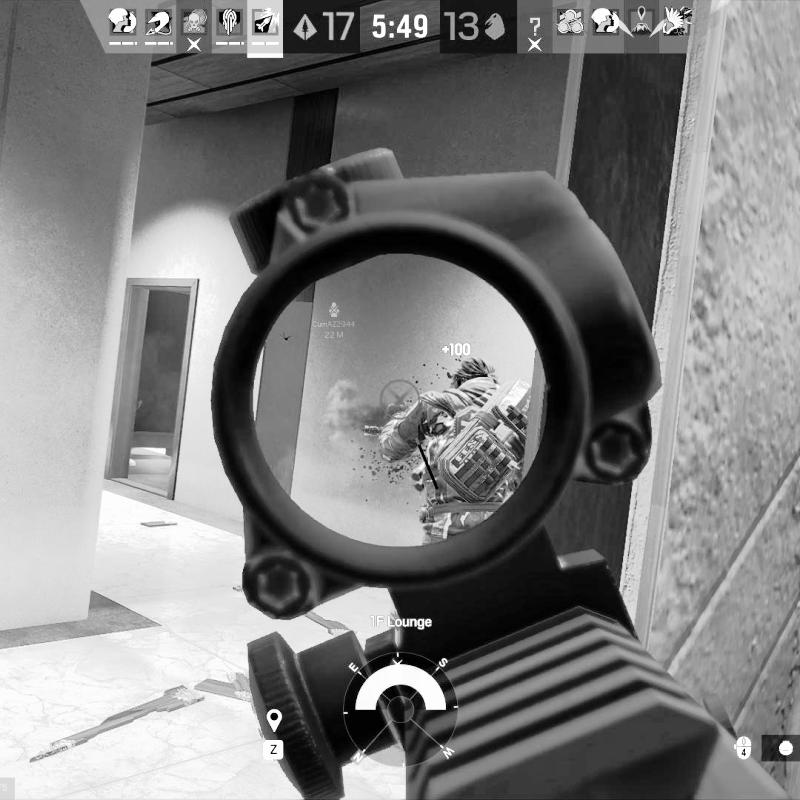Character: (377, 353, 534, 548)
Head: (451, 356, 502, 388)
